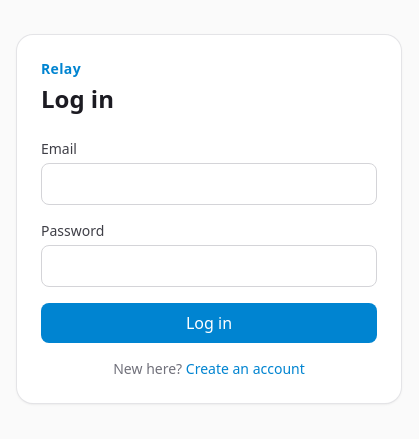
Test: auth pages › shows the server error for wrong credentials
Step 1. Type "alice@x.io" into the field labelled "Email" → {"x": 209, "y": 184}, box x1=41 y1=163 x2=377 y2=205
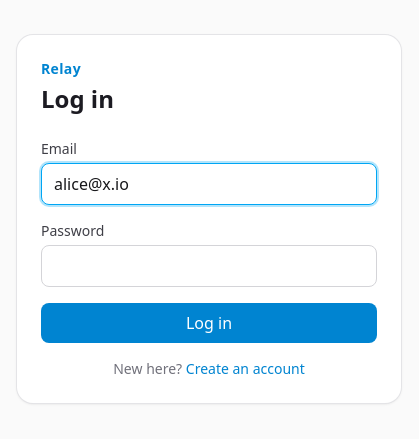
Step 2. Type "wrong-password" into the password field labelled "Password" → {"x": 209, "y": 266}, box x1=41 y1=245 x2=377 y2=287
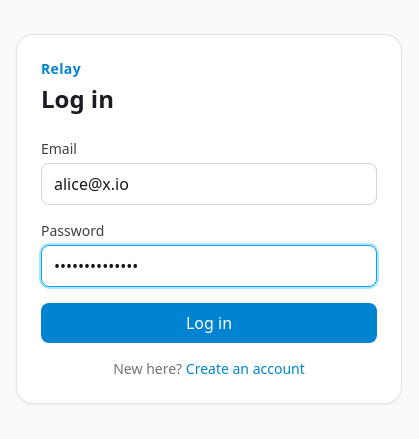
Step 3. Click the button "Log in" → {"x": 209, "y": 323}, box x1=41 y1=303 x2=377 y2=343
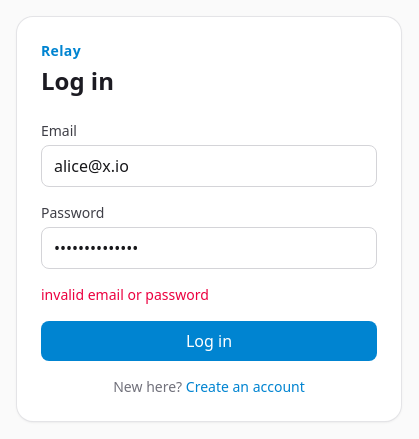
Check: the message reads "invalid email or password", box x1=41 y1=285 x2=209 y2=304
